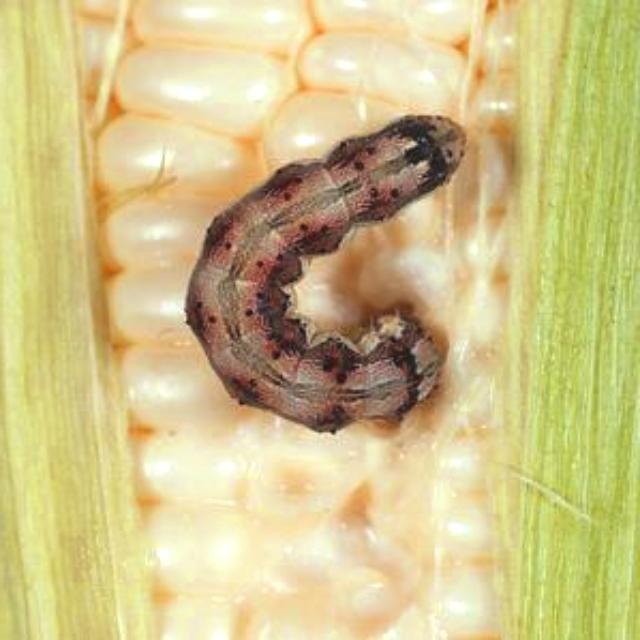Cotton bollworm: (163, 106, 489, 448)
